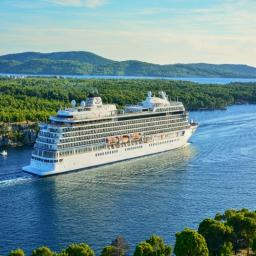cruises: (22, 88, 200, 180)
